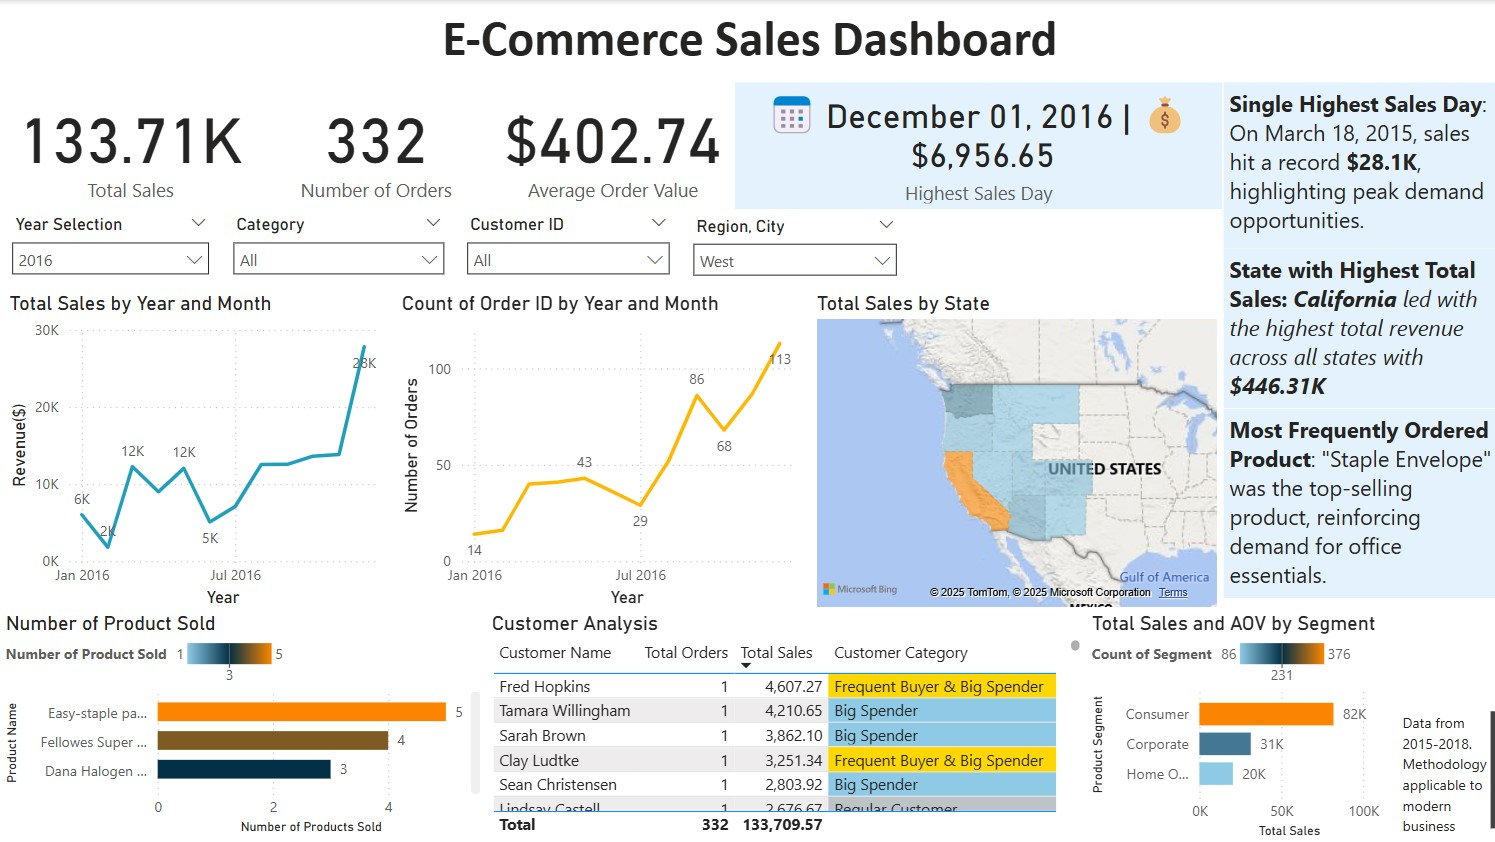

What the dashboard file says about the page in this screenshot:
{"tool":"powerbi","page":{"name":"Page 1","canvas":[1280,720],"ordinal":0},"visuals":[{"type":"card","fields":{"Values":["cleaned_ecommerce_data.Total Sales"]},"box":[0,70.9,223.3,107],"z":0},{"type":"card","fields":{"Values":["cleaned_ecommerce_data.Number of Orders"]},"box":[223.3,70.9,196.5,107],"z":1000},{"type":"slicer","fields":{"Values":["cleaned_ecommerce_data.Category"]},"box":[188.4,177.9,200,70.9],"z":2000},{"type":"slicer","fields":{"Values":["cleaned_ecommerce_data.Customer ID"]},"box":[388.4,177.9,193,70.9],"z":3000},{"type":"slicer","fields":{"Values":["cleaned_ecommerce_data.Region","cleaned_ecommerce_data.City"]},"box":[581.4,179.1,194.2,69.8],"z":4000},{"type":"textbox","box":[0,1.2,1280,70],"z":5000},{"type":"barChart","title":"Number of Product Sold","fields":{"Y":["cleaned_ecommerce_data.Product ID"],"Category":["cleaned_ecommerce_data.Product Name"]},"box":[0,521.8,415.1,195.3],"z":6000},{"type":"filledMap","fields":{"Category":["cleaned_ecommerce_data.State"]},"box":[692.5,248.8,351.2,273.8],"z":7000},{"type":"clusteredBarChart","fields":{"Category":["cleaned_ecommerce_data.Segment"],"Y":["cleaned_ecommerce_data.Total Sales"]},"box":[927.2,521.8,265.7,198.5],"z":8000},{"type":"card","title":"Average Order Value","fields":{"Values":["cleaned_ecommerce_data.AOV"]},"box":[419.8,70.9,208.1,107],"z":9000},{"type":"slicer","fields":{"Values":["cleaned_ecommerce_data.Year Selection"]},"box":[0,177.9,188.4,70.9],"z":10000},{"type":"textbox","box":[1044.2,212.8,234.9,136],"z":11000},{"type":"textbox","box":[1044.2,70.9,236,141.9],"z":12000},{"type":"textbox","box":[1044.2,348.8,234.9,161.6],"z":13000},{"type":"card","fields":{"Values":["cleaned_ecommerce_data.Highest Sales Day"]},"box":[627.9,70.9,416.3,108.1],"z":14000},{"type":"tableEx","title":"Customer Analysis","fields":{"Values":["cleaned_ecommerce_data.Customer Name","cleaned_ecommerce_data.Number of Orders","cleaned_ecommerce_data.Total Sales","cleaned_ecommerce_data.Customer Category"]},"box":[415.1,521.8,512.2,196.3],"z":15000},{"type":"textbox","box":[1197.2,607.1,83.2,111],"z":16000},{"type":"lineChart","fields":{"Y":["cleaned_ecommerce_data.Total Sales"],"Category":["cleaned_ecommerce_data.Order Date.Variation.Date Hierarchy.Year","cleaned_ecommerce_data.Order Date.Variation.Date Hierarchy.Month"]},"box":[3.5,248.8,334.9,274.4],"z":17000},{"type":"lineChart","fields":{"Category":["cleaned_ecommerce_data.Order Date.Variation.Date Hierarchy.Year","cleaned_ecommerce_data.Order Date.Variation.Date Hierarchy.Month"],"Y":["cleaned_ecommerce_data.Order ID"]},"box":[338.4,248.8,354.7,274.4],"z":18000}]}

Visuals, with their boxes in screenshot pixels (x1, y1, x2, y2), scaled from the page's 1280x720 canvas onto the 1495x842 screenshot:
card - cleaned_ecommerce_data.Total Sales: {"left": 0, "top": 83, "right": 261, "bottom": 208}
card - cleaned_ecommerce_data.Number of Orders: {"left": 261, "top": 83, "right": 490, "bottom": 208}
slicer - cleaned_ecommerce_data.Category: {"left": 220, "top": 208, "right": 454, "bottom": 291}
slicer - cleaned_ecommerce_data.Customer ID: {"left": 454, "top": 208, "right": 679, "bottom": 291}
slicer - cleaned_ecommerce_data.Region x cleaned_ecommerce_data.City: {"left": 679, "top": 209, "right": 906, "bottom": 291}
textbox: {"left": 0, "top": 1, "right": 1494, "bottom": 83}
"Number of Product Sold" barChart: {"left": 0, "top": 610, "right": 485, "bottom": 839}
filledMap - cleaned_ecommerce_data.State: {"left": 809, "top": 291, "right": 1219, "bottom": 611}
clusteredBarChart - cleaned_ecommerce_data.Segment x cleaned_ecommerce_data.Total Sales: {"left": 1083, "top": 610, "right": 1393, "bottom": 841}
"Average Order Value" card: {"left": 490, "top": 83, "right": 733, "bottom": 208}
slicer - cleaned_ecommerce_data.Year Selection: {"left": 0, "top": 208, "right": 220, "bottom": 291}
textbox: {"left": 1220, "top": 249, "right": 1494, "bottom": 408}
textbox: {"left": 1220, "top": 83, "right": 1494, "bottom": 249}
textbox: {"left": 1220, "top": 408, "right": 1494, "bottom": 597}
card - cleaned_ecommerce_data.Highest Sales Day: {"left": 733, "top": 83, "right": 1220, "bottom": 209}
"Customer Analysis" tableEx: {"left": 485, "top": 610, "right": 1083, "bottom": 840}
textbox: {"left": 1398, "top": 710, "right": 1494, "bottom": 840}
lineChart - cleaned_ecommerce_data.Total Sales x cleaned_ecommerce_data.Order Date.Variation.Date Hierarchy.Year: {"left": 4, "top": 291, "right": 395, "bottom": 612}
lineChart - cleaned_ecommerce_data.Order Date.Variation.Date Hierarchy.Year x cleaned_ecommerce_data.Order Date.Variation.Date Hierarchy.Month: {"left": 395, "top": 291, "right": 810, "bottom": 612}
